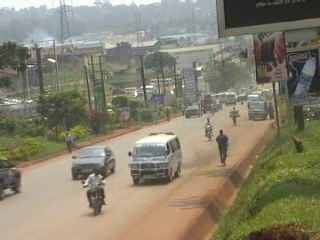Car: (70, 143, 117, 180), (183, 103, 203, 119), (201, 97, 216, 113), (236, 92, 248, 103), (214, 100, 224, 111)
Motorcycle: (78, 176, 111, 217), (201, 120, 214, 141)
